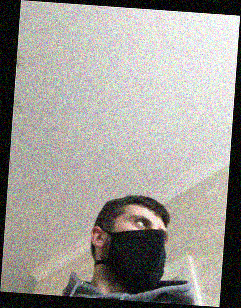with_mask: (106, 213, 168, 292)
